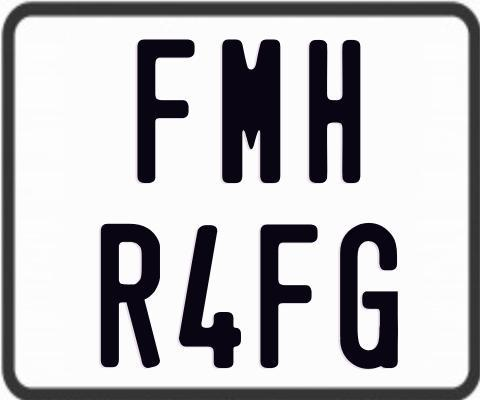4: (177, 224, 245, 367)
F: (135, 38, 199, 182), (260, 221, 318, 368)
G: (338, 223, 398, 371)
H: (308, 37, 359, 184)
M: (222, 36, 284, 186)
R: (98, 221, 160, 368)
